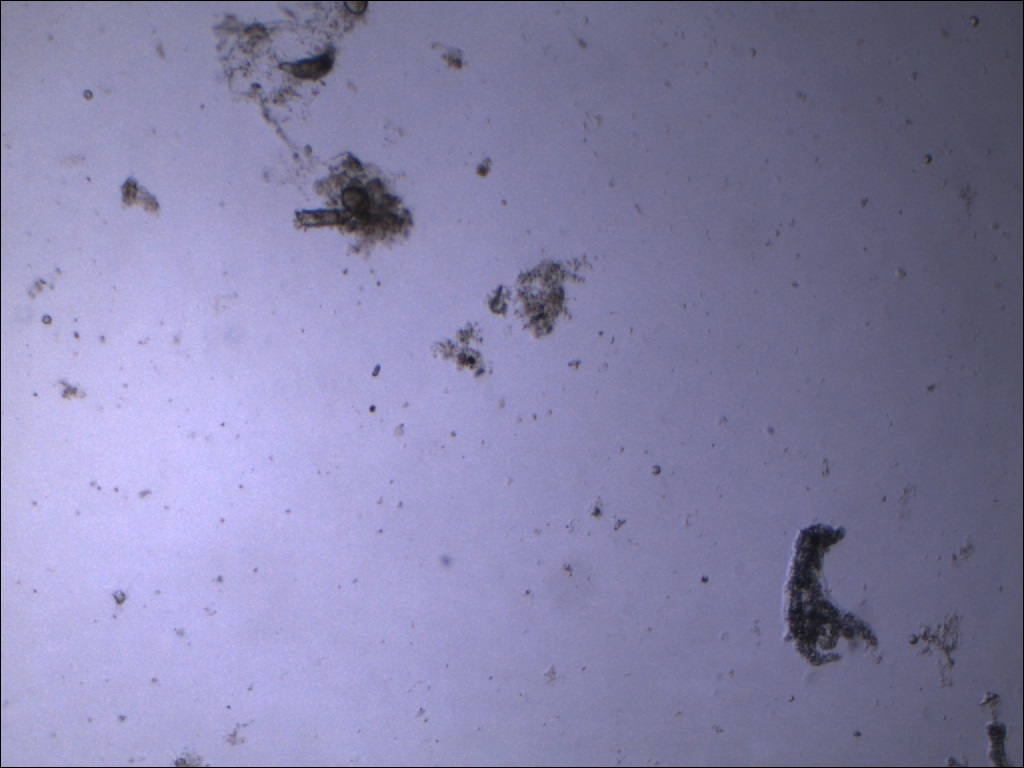amoeba: (773, 516, 886, 674)
